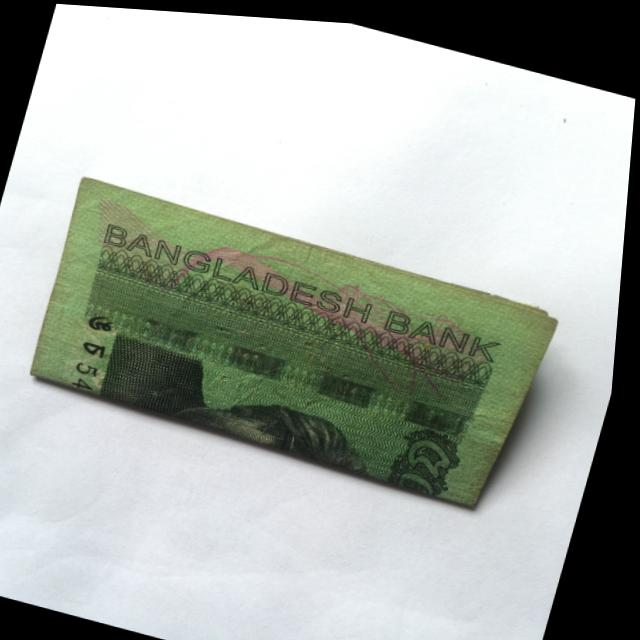Taka: (17, 164, 564, 514)
